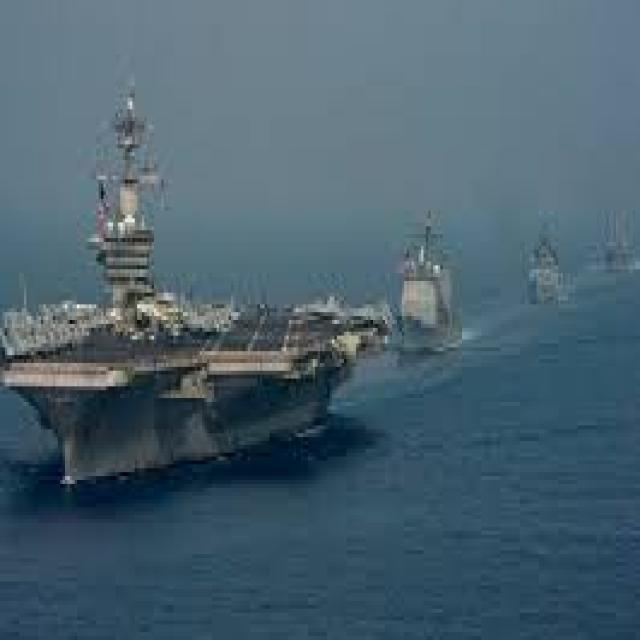navalvessels: (0, 82, 385, 484), (377, 214, 474, 362), (510, 230, 569, 314), (600, 210, 639, 276)
